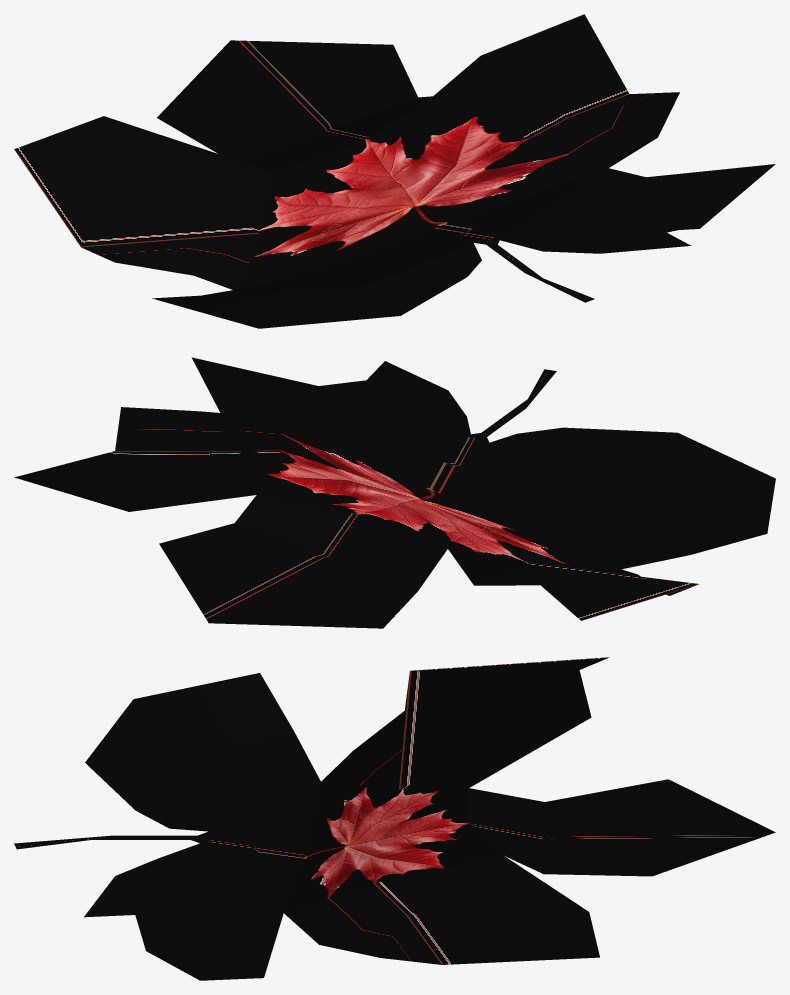
The model's file is mapleLeafShape.obj.
3 views of the same model, one above another, from view 1: azimuth 30°, elevation 25°; view 2: azimuth 150°, elevation 25°; view 3: azimuth 270°, elevation 25° (orthographic). The views are drawn at different scales.
Visible parts, largest first — view 1: Plane.003; view 2: Plane.003; view 3: Plane.003.
Boxes of the visible parts, x1,y1,x2,y2 form: Plane.003: (14,14,775,328); Plane.003: (14,357,775,628); Plane.003: (14,657,775,980).
Size of the model in its own units: 0.4185 by 0.0628 by 0.4231.
1 material, 1 textured.
